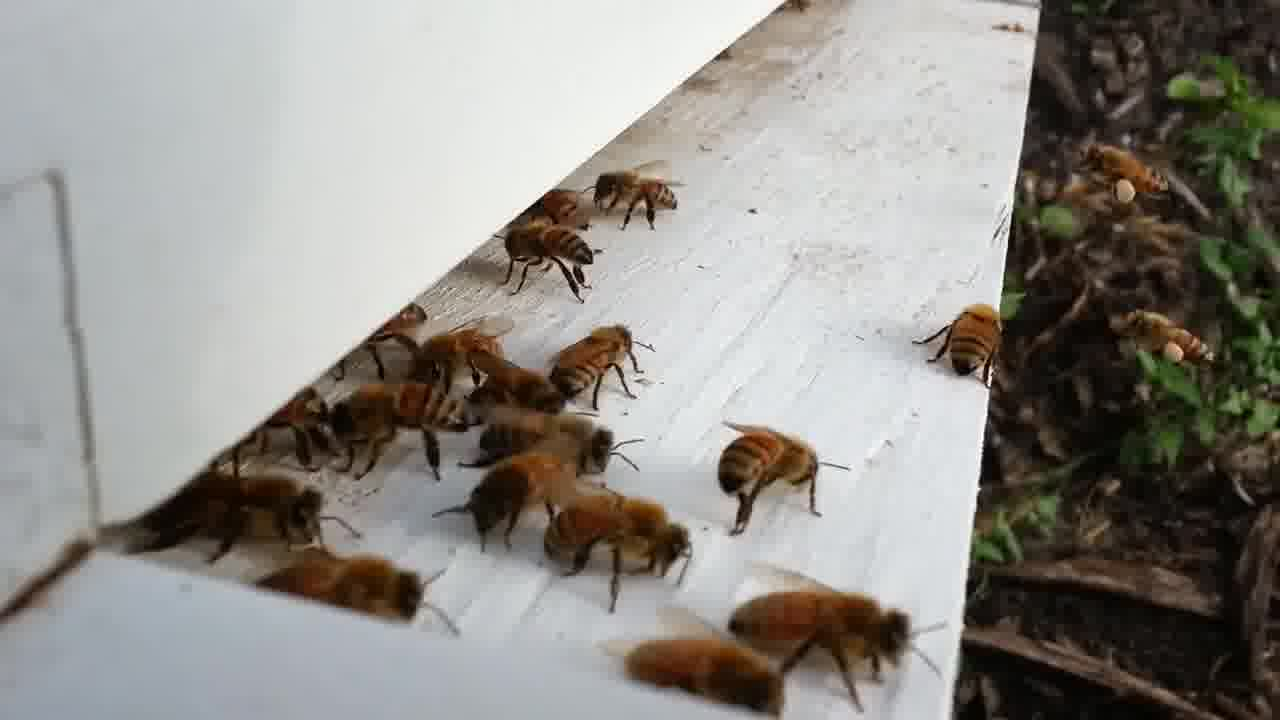pollen: (1078, 140, 1171, 212), (1125, 310, 1213, 369)
